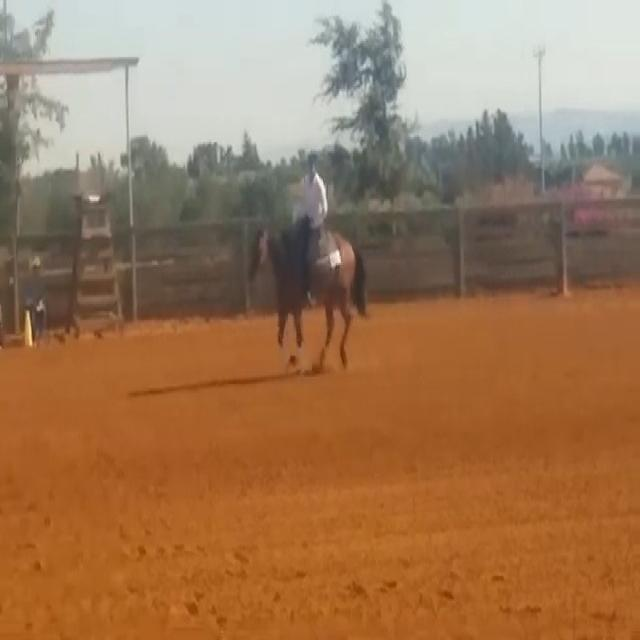horse: (245, 215, 370, 373)
